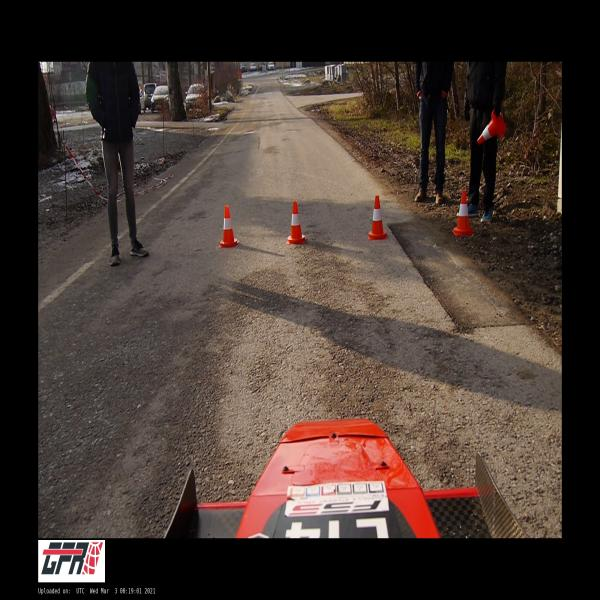orange_cone: (477, 109, 506, 144), (452, 191, 473, 235), (219, 205, 238, 248), (287, 201, 306, 244), (368, 196, 387, 239)
